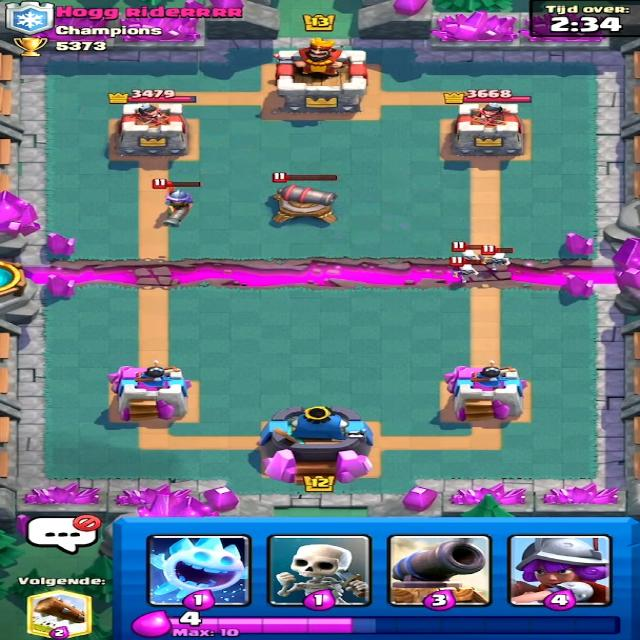Cannon_Card: (390, 532, 492, 606)
Enemy_Cannon_Troop: (262, 180, 343, 239)
Enemy_Musketeer_Troop: (152, 182, 198, 229)
Enemy_Skeleton_Troop: (484, 249, 514, 271), (450, 246, 485, 264), (452, 262, 478, 284)
Ice_Spirit_Card: (145, 533, 251, 608)
Musketeer_Card: (510, 534, 614, 604)
Skeleton_Card: (262, 533, 364, 608)
